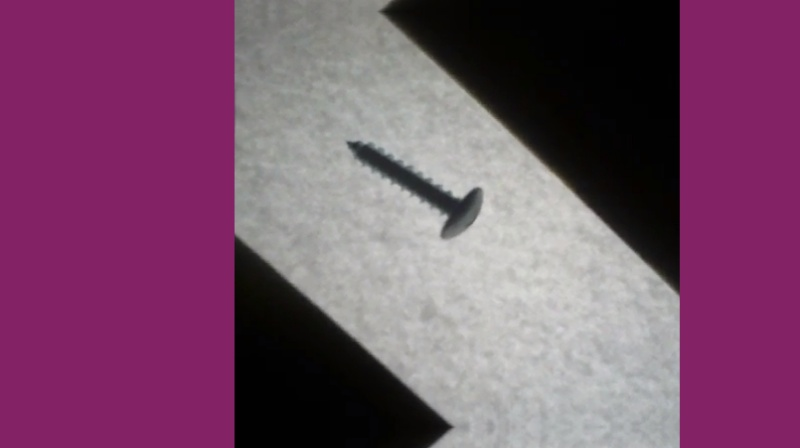S003: (343, 135, 486, 241)
